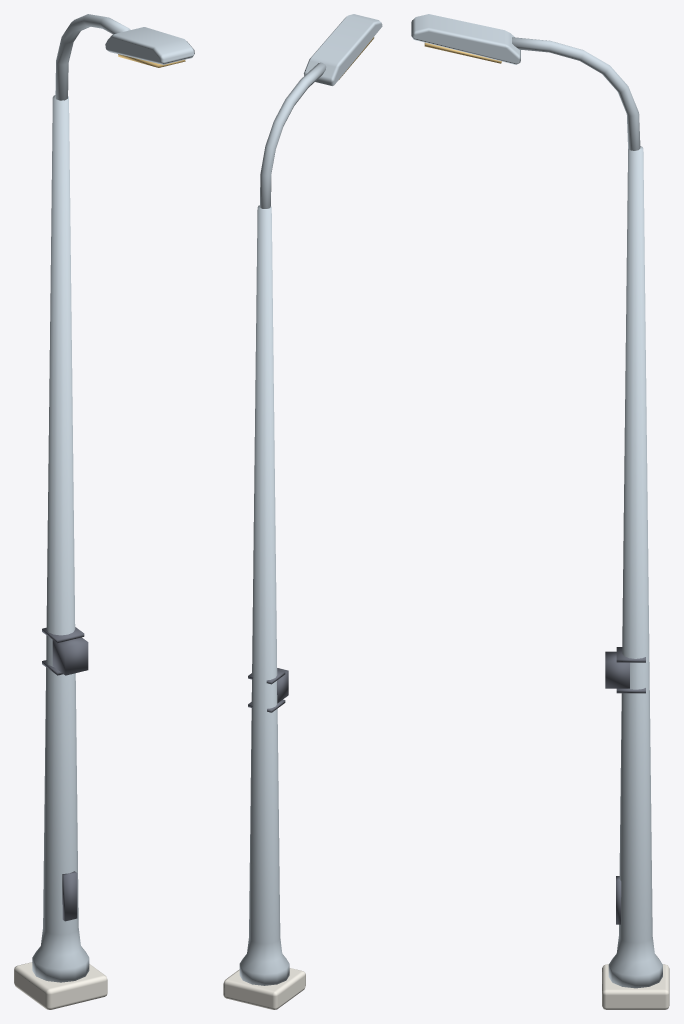
Rendered from sq-lamp.glb.
The picture shows the model from 3 angles, left to right: view 1: azimuth 30°, elevation 25°; view 2: azimuth 150°, elevation 25°; view 3: azimuth 270°, elevation 25°; orthographic projection. The views are drawn at different scales.
Parts seen in each view (by area): view 1: lamp; view 2: lamp; view 3: lamp.
Part boxes in pixels (bbox=[...]): lamp: bbox=[14, 14, 194, 1009]; lamp: bbox=[223, 14, 382, 1009]; lamp: bbox=[411, 14, 669, 1009].
Size of the model in its own units: 0.6 by 9.55 by 2.29.
